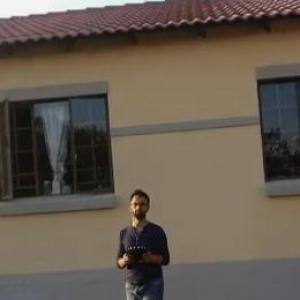follow: (114, 181, 179, 299)
